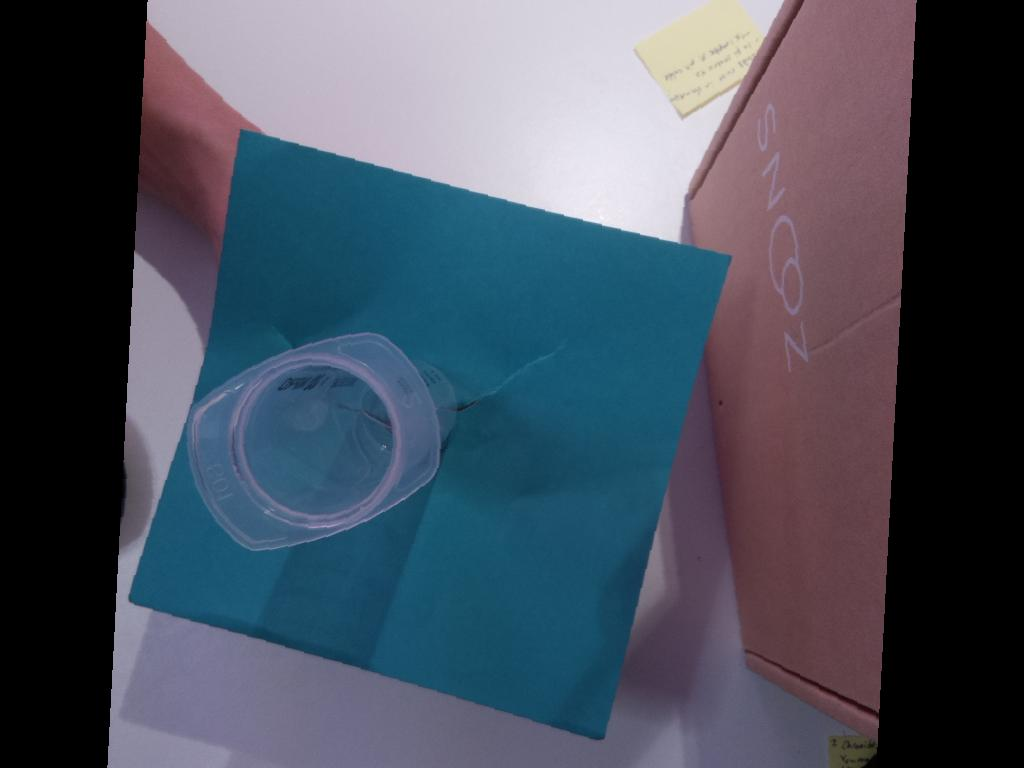clean: (186, 328, 443, 555)
